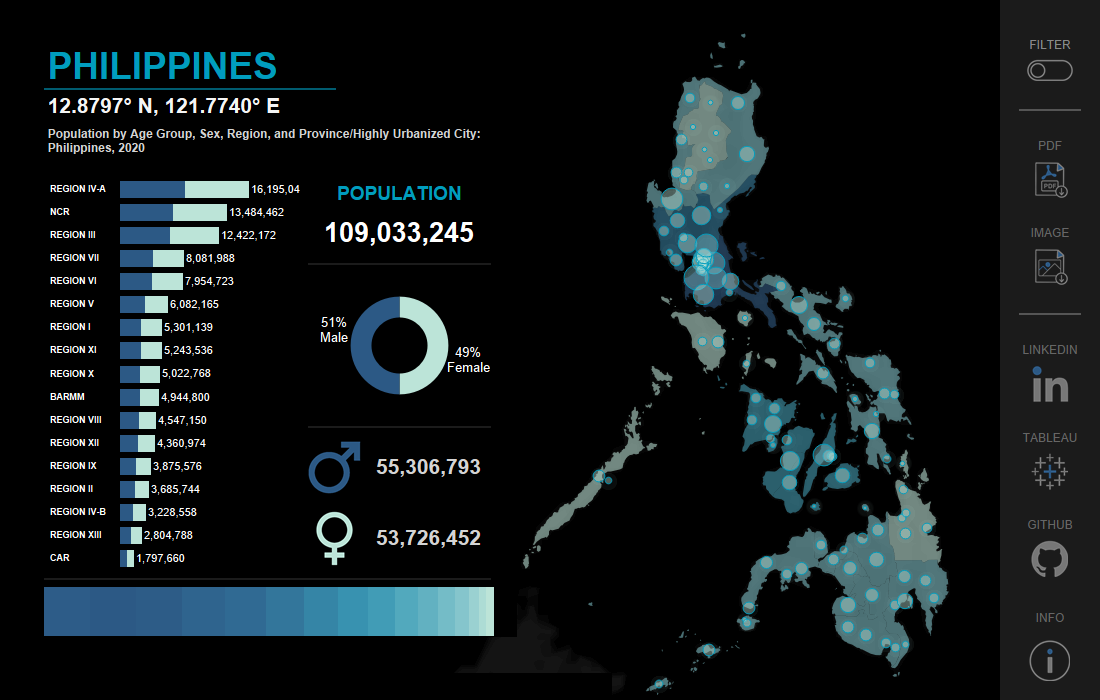

Layout of this report page (visuals, bound fields, positions):
{"tool":"tableau","page":{"name":"PH STATS","canvas":[1100,700],"ordinal":0},"visuals":[{"type":"blank","box":[0,0,425,700]},{"type":"text","box":[40,0,455,84]},{"type":"worksheet","title":"MAP","mark":"Heatmap","box":[425,0,575,700]},{"type":"blank","box":[1015,15,70,20]},{"type":"text","box":[1015,35,70,20]},{"type":"filter","title":"MAP","param":"[federated.1cvfecf0pbejte13o1akd0tremb4].[Action (REGION PH)]","box":[833,42,168,48]},{"type":"dashboard-object","box":[1015,55,70,30]},{"type":"blank","box":[40,84,300,10]},{"type":"blank","box":[340,84,155,10]},{"type":"blank","box":[1015,85,70,20]},{"type":"text","box":[40,94,455,24]},{"type":"blank","box":[1015,105,70,10]},{"type":"blank","box":[1015,115,70,20]},{"type":"text","box":[40,118,455,46]},{"type":"text","box":[1015,135,70,22]},{"type":"dashboard-object","box":[1015,157,70,45.2]},{"type":"blank","box":[40,164,455,10]},{"type":"worksheet","title":"GENDER PER REGION","mark":"Automatic","rows":["Region"],"box":[40,174,264,400]},{"type":"text","box":[304,174,191,40]},{"type":"text","box":[0,200,1100,37]},{"type":"blank","box":[1015,202.2,70,20]},{"type":"worksheet","title":"TOTAL POPULATION","mark":"Automatic","box":[304,214,191,45]},{"type":"text","box":[1015,222.2,70,22]},{"type":"text","box":[0,237,1100,184]},{"type":"dashboard-object","box":[1015,244.2,70,45.2]},{"type":"blank","box":[304,259,191,10]},{"type":"worksheet","title":"PIE CHART","mark":"Pie","cols":["Calculation_605452730069045259","Calculation_605452730069045259"],"box":[304,269,191,153]},{"type":"blank","box":[1015,289.4,70,20]},{"type":"blank","box":[1015,309.4,70,10]},{"type":"blank","box":[1015,319.4,70,20]},{"type":"text","box":[1015,339.4,70,22]},{"type":"image","param":"D:/AAA- CLSSYB/DATA ANALYST/Tableau/Tableau-HR-Project-Materials/Icons & Images/","box":[1015,361.4,70,45.2]},{"type":"blank","box":[1015,406.5,70,20]},{"type":"blank","box":[304,422,191,10]},{"type":"text","box":[1015,426.5,70,22]},{"type":"image","param":"D:/AAA- CLSSYB/DATA ANALYST/Tableau/asset/MALE.png","box":[304,432,60,70]},{"type":"worksheet","title":"TOTAL MALE","mark":"Automatic","box":[364,432,131,70]},{"type":"image","param":"D:/AAA- CLSSYB/DATA ANALYST/Tableau/Tableau-HR-Project-Materials/Icons & Images/","box":[1015,448.5,70,45.2]},{"type":"blank","box":[1015,493.7,70,20]},{"type":"image","param":"D:/AAA- CLSSYB/DATA ANALYST/Tableau/asset/FEMALE.png","box":[304,502,60,72]},{"type":"worksheet","title":"TOTAL FEMALE","mark":"Automatic","box":[364,502,131,72]},{"type":"text","box":[1015,513.7,70,22]},{"type":"image","param":"D:/AAA- CLSSYB/DATA ANALYST/Tableau/asset/github.png","box":[1015,535.7,70,45.2]},{"type":"blank","box":[40,574,455,10]},{"type":"blank","box":[1015,580.9,70,20]},{"type":"blank","box":[40,584,455,116]},{"type":"worksheet","title":"AGE","mark":"Bar","box":[44,587,472,49]},{"type":"text","box":[1015,600.9,70,35]},{"type":"dashboard-object","box":[1015,635.9,70,49.1]},{"type":"blank","box":[426,673,186,26]}]}

Visuals, with their boxes on the page's 1100x700 design canvas (x1, y1, x2, y2). These are canvas units, not pixel positions in the 1100x700 screenshot, which may show the page scaled, cropped or inside an application window:
blank: (left=0, top=0, right=425, bottom=700)
text: (left=40, top=0, right=495, bottom=84)
"MAP" worksheet (Heatmap marks): (left=425, top=0, right=1000, bottom=700)
blank: (left=1015, top=15, right=1085, bottom=35)
text: (left=1015, top=35, right=1085, bottom=55)
"MAP" filter: (left=833, top=42, right=1001, bottom=90)
dashboard-object: (left=1015, top=55, right=1085, bottom=85)
blank: (left=40, top=84, right=340, bottom=94)
blank: (left=340, top=84, right=495, bottom=94)
blank: (left=1015, top=85, right=1085, bottom=105)
text: (left=40, top=94, right=495, bottom=118)
blank: (left=1015, top=105, right=1085, bottom=115)
blank: (left=1015, top=115, right=1085, bottom=135)
text: (left=40, top=118, right=495, bottom=164)
text: (left=1015, top=135, right=1085, bottom=157)
dashboard-object: (left=1015, top=157, right=1085, bottom=202)
blank: (left=40, top=164, right=495, bottom=174)
"GENDER PER REGION" worksheet: (left=40, top=174, right=304, bottom=574)
text: (left=304, top=174, right=495, bottom=214)
text: (left=0, top=200, right=1100, bottom=237)
blank: (left=1015, top=202, right=1085, bottom=222)
"TOTAL POPULATION" worksheet: (left=304, top=214, right=495, bottom=259)
text: (left=1015, top=222, right=1085, bottom=244)
text: (left=0, top=237, right=1100, bottom=421)
dashboard-object: (left=1015, top=244, right=1085, bottom=289)
blank: (left=304, top=259, right=495, bottom=269)
"PIE CHART" worksheet (Pie marks): (left=304, top=269, right=495, bottom=422)
blank: (left=1015, top=289, right=1085, bottom=309)
blank: (left=1015, top=309, right=1085, bottom=319)
blank: (left=1015, top=319, right=1085, bottom=339)
text: (left=1015, top=339, right=1085, bottom=361)
image: (left=1015, top=361, right=1085, bottom=407)
blank: (left=1015, top=406, right=1085, bottom=426)
blank: (left=304, top=422, right=495, bottom=432)
text: (left=1015, top=426, right=1085, bottom=448)
image: (left=304, top=432, right=364, bottom=502)
"TOTAL MALE" worksheet: (left=364, top=432, right=495, bottom=502)
image: (left=1015, top=448, right=1085, bottom=494)
blank: (left=1015, top=494, right=1085, bottom=514)
image: (left=304, top=502, right=364, bottom=574)
"TOTAL FEMALE" worksheet: (left=364, top=502, right=495, bottom=574)
text: (left=1015, top=514, right=1085, bottom=536)
image: (left=1015, top=536, right=1085, bottom=581)
blank: (left=40, top=574, right=495, bottom=584)
blank: (left=1015, top=581, right=1085, bottom=601)
blank: (left=40, top=584, right=495, bottom=700)
"AGE" worksheet (Bar marks): (left=44, top=587, right=516, bottom=636)
text: (left=1015, top=601, right=1085, bottom=636)
dashboard-object: (left=1015, top=636, right=1085, bottom=685)
blank: (left=426, top=673, right=612, bottom=699)
